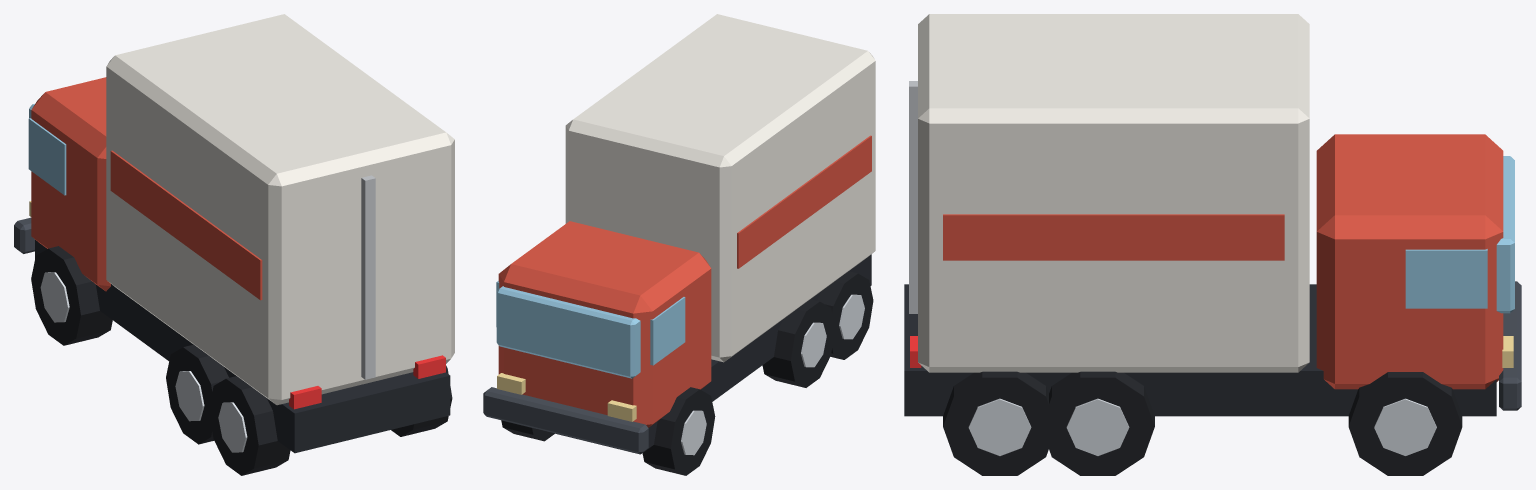
Rendered from box_truck.glb.
3 renders of one model, left to right at view 1: azimuth 30°, elevation 25°; view 2: azimuth 150°, elevation 25°; view 3: azimuth 270°, elevation 25°, orthographic. The views are drawn at different scales.
Visible parts, largest first — view 1: Body, Wheel_2L, Wheel_0L, Wheel_1L, Wheel_2R; view 2: Body, Wheel_1L, Wheel_0L, Wheel_2L, Wheel_0R; view 3: Body, Wheel_1R, Wheel_0R, Wheel_2R.
Boxes of the visible parts, x1,y1,x2,y2 form: Body: [14, 14, 454, 453]; Wheel_2L: [210, 376, 290, 475]; Wheel_0L: [31, 246, 112, 345]; Wheel_1L: [166, 344, 228, 444]; Wheel_2R: [391, 365, 452, 436]; Body: [483, 14, 875, 454]; Wheel_1L: [762, 299, 835, 387]; Wheel_0L: [642, 387, 715, 475]; Wheel_2L: [817, 271, 873, 359]; Wheel_0R: [501, 420, 554, 441]; Body: [904, 14, 1521, 416]; Wheel_1R: [1041, 371, 1154, 475]; Wheel_0R: [1348, 372, 1462, 475]; Wheel_2R: [943, 371, 1050, 475].
Bounding box in the file's own units: 1.14 × 1.75 × 2.71.
Materials: 1 (1 with a texture image).
